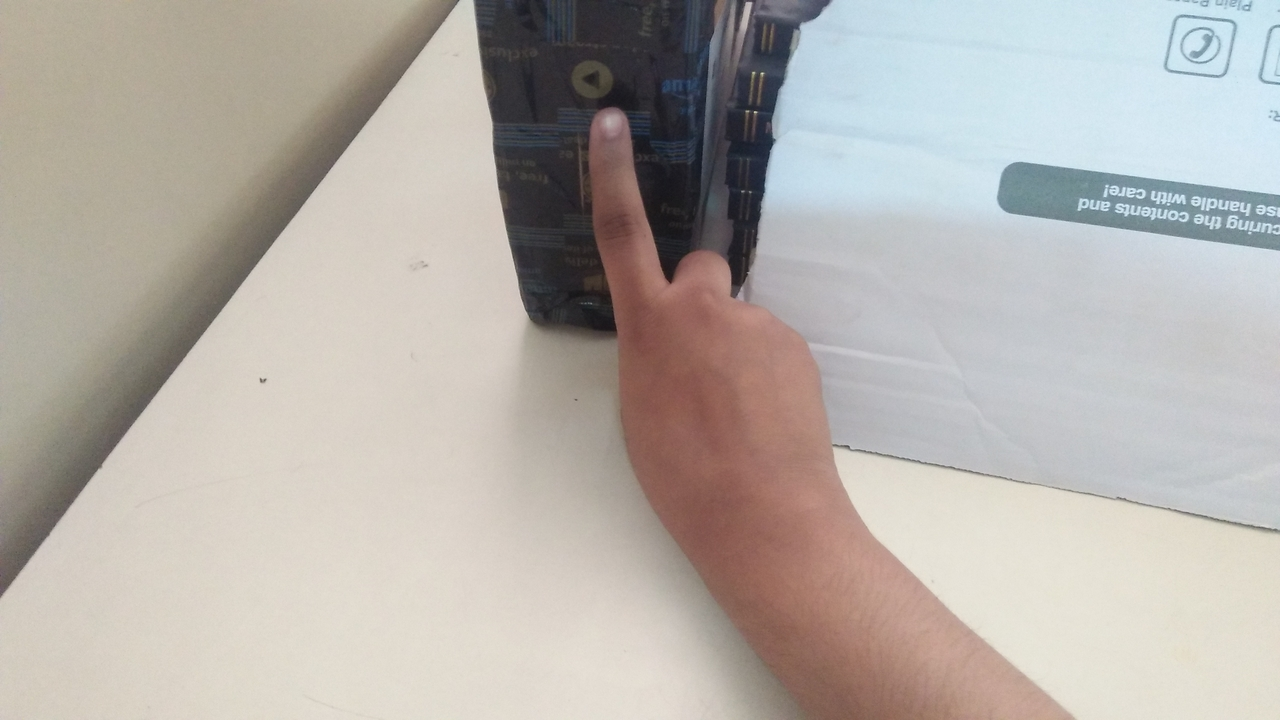fingertip: (580, 98, 636, 152)
